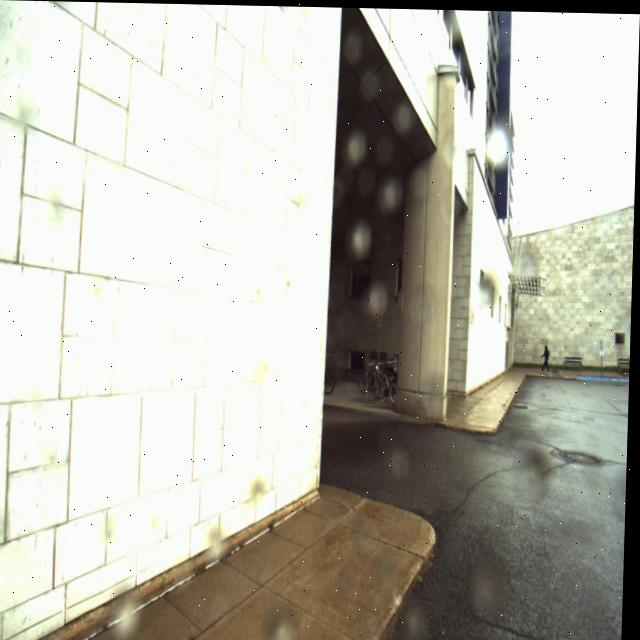pedestrian: (541, 343, 553, 371)
